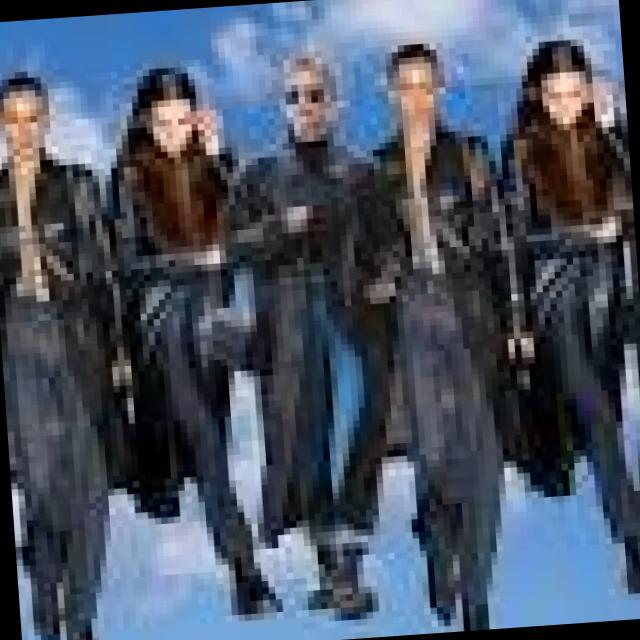Jacket: (232, 126, 408, 541), (356, 115, 511, 499), (116, 133, 258, 532), (503, 105, 640, 498), (0, 149, 121, 566)
